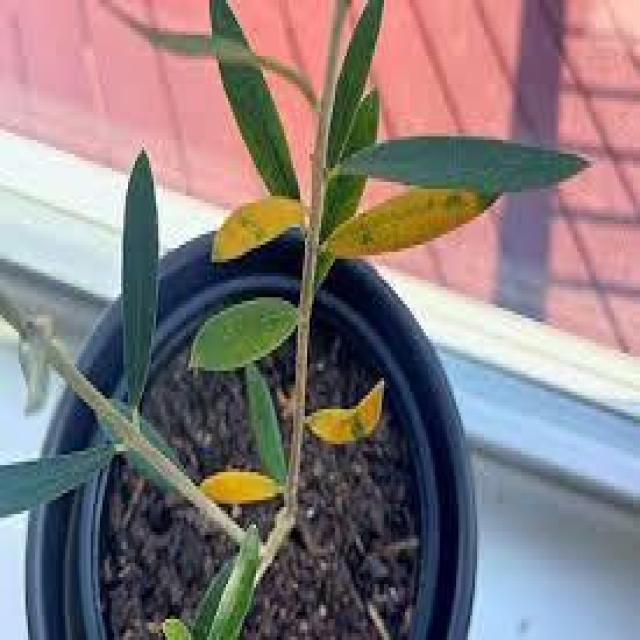OlivePeacockSpot: (321, 189, 503, 258), (305, 378, 385, 446), (212, 206, 305, 258), (202, 472, 272, 504)
